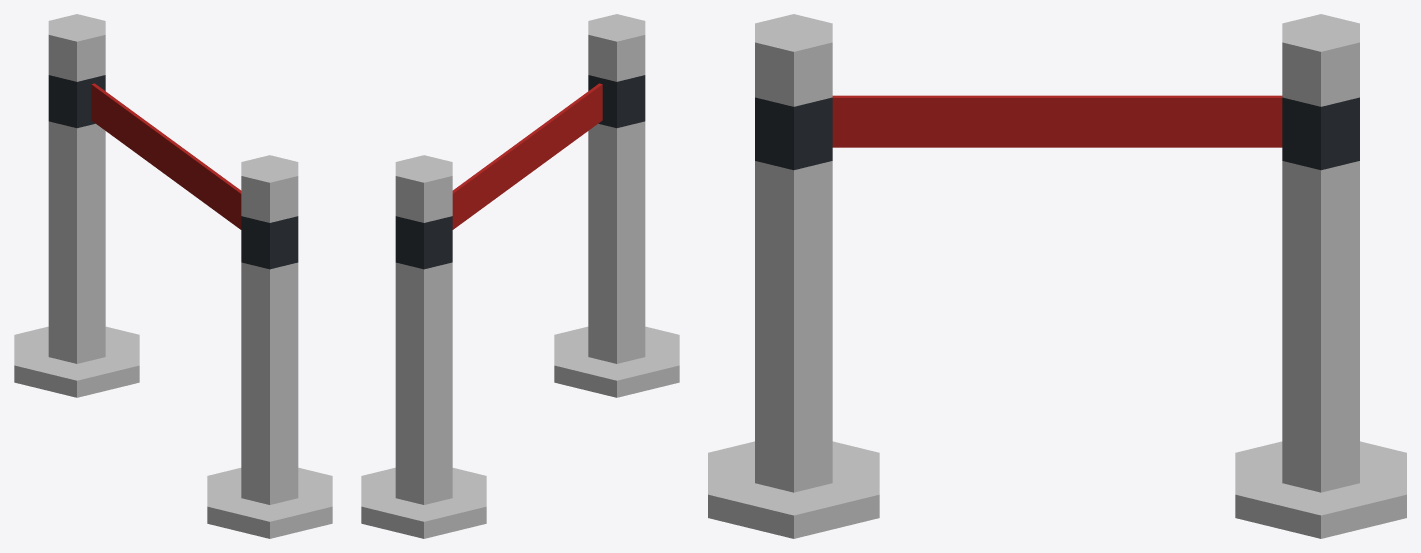
Rendered from band barrier.fbx.
3 renders of one model, left to right at view 1: azimuth 30°, elevation 25°; view 2: azimuth 150°, elevation 25°; view 3: azimuth 270°, elevation 25°, orthographic. The views are drawn at different scales.
Parts seen in each view (by area): view 1: band barrier; view 2: band barrier; view 3: band barrier.
Boxes of the visible parts, left/top/right/bottom form: band barrier: left=14, top=14, right=332, bottom=538; band barrier: left=361, top=14, right=679, bottom=538; band barrier: left=708, top=14, right=1406, bottom=538.
Size of the model in its own units: 32.63 by 84.4 by 115.
